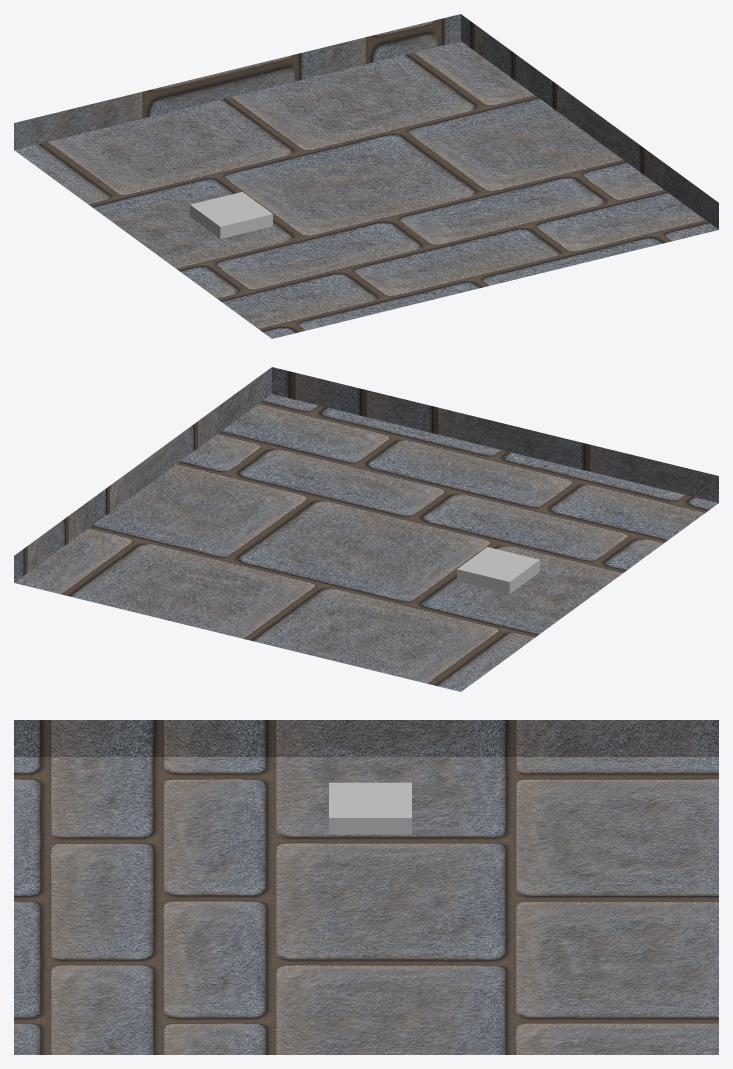
File: testScene.gltf
3 views of the same model, one above another, from view 1: azimuth 30°, elevation 25°; view 2: azimuth 150°, elevation 25°; view 3: azimuth 270°, elevation 25° (orthographic). The views are drawn at different scales.
Visible parts, largest first — view 1: Plane, Cube; view 2: Plane, Cube; view 3: Plane, Cube.
Boxes of the visible parts, bbox=[...] form: Plane: bbox=[14, 14, 718, 338]; Cube: bbox=[190, 192, 272, 238]; Plane: bbox=[14, 367, 718, 691]; Cube: bbox=[457, 547, 539, 593]; Plane: bbox=[14, 720, 718, 1054]; Cube: bbox=[329, 782, 411, 834].
Size of the model in its own units: 72.54 by 4.22 by 72.54.
